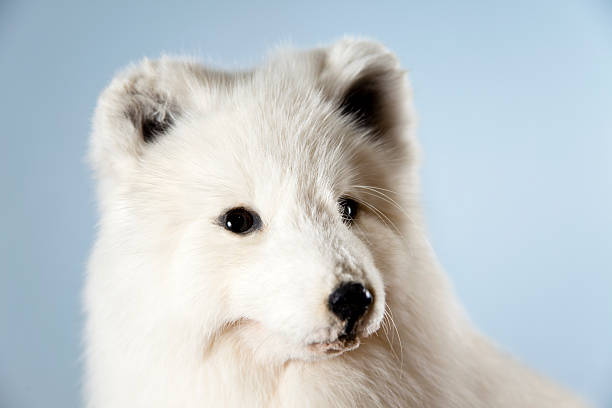arcticfox: (175, 117, 408, 370)
